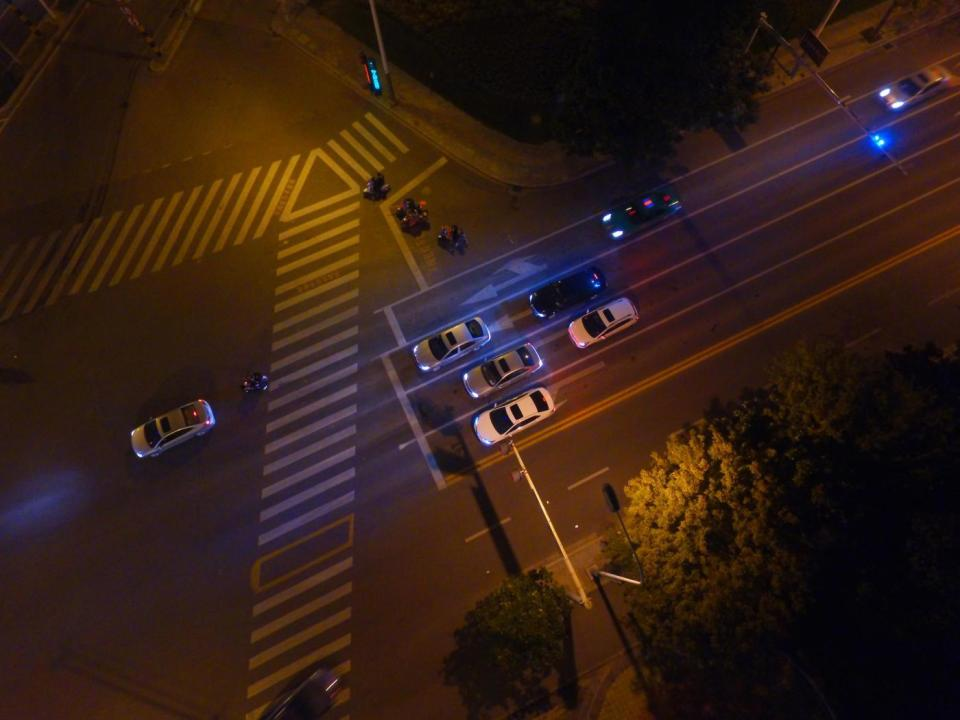car: (128, 398, 214, 459), (473, 387, 555, 445), (600, 187, 682, 240), (411, 317, 491, 371), (462, 344, 541, 397), (528, 268, 608, 318), (264, 668, 344, 718), (566, 297, 640, 348), (880, 62, 950, 112)
